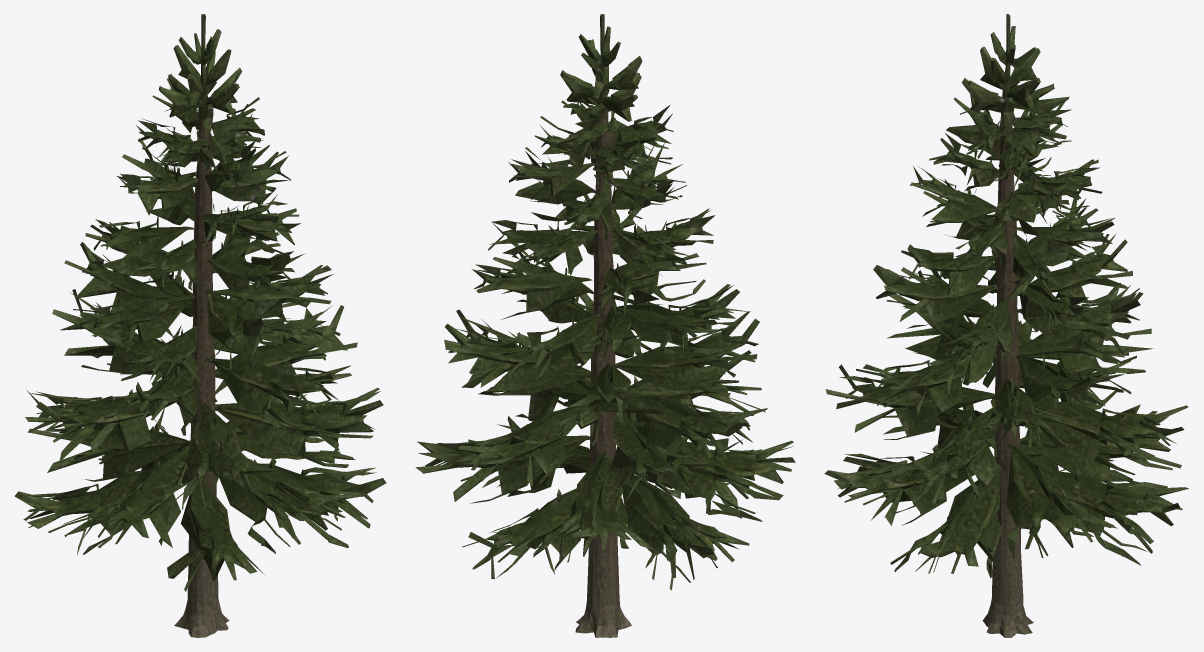
Rendered from pine+tree+3d+model.glb.
3 views of the same model, side by side, from view 1: azimuth 30°, elevation 25°; view 2: azimuth 150°, elevation 25°; view 3: azimuth 270°, elevation 25° (orthographic).
Visible parts, largest first — view 1: tripo_node_16cbddb5-d64e-4589-9e28-17e9603ad49d; view 2: tripo_node_16cbddb5-d64e-4589-9e28-17e9603ad49d; view 3: tripo_node_16cbddb5-d64e-4589-9e28-17e9603ad49d.
Boxes of the visible parts, x1,y1,x2,y2 form: tripo_node_16cbddb5-d64e-4589-9e28-17e9603ad49d: [14, 14, 386, 637]; tripo_node_16cbddb5-d64e-4589-9e28-17e9603ad49d: [415, 14, 795, 637]; tripo_node_16cbddb5-d64e-4589-9e28-17e9603ad49d: [824, 14, 1188, 637].
Size of the model in its own units: 0.5449 by 0.998 by 0.541.
1 material, 1 textured.
